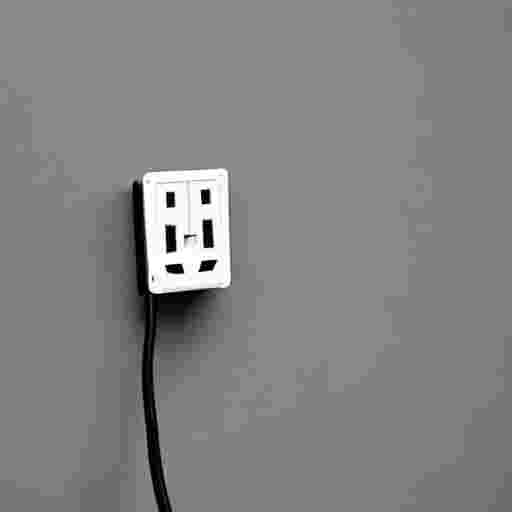power outlet: (133, 169, 230, 293)
